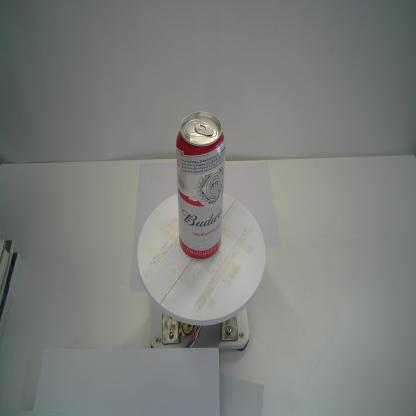Alcohol: (175, 111, 227, 262)
